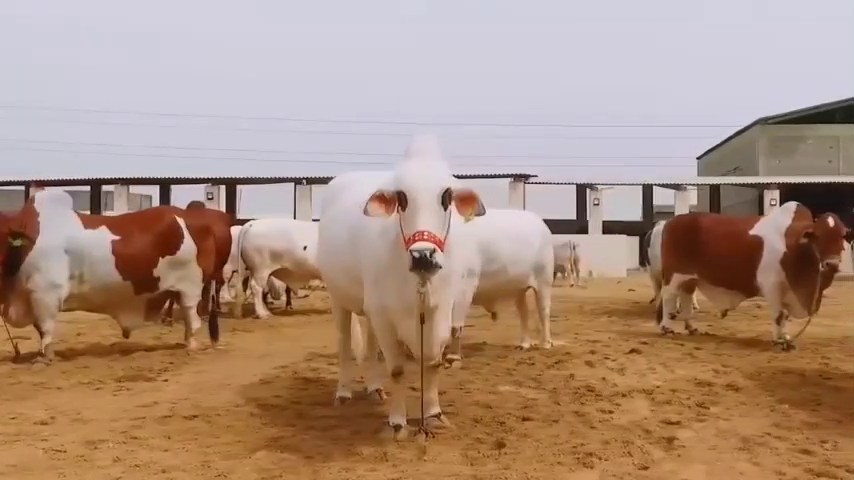bo: (311, 138, 468, 441), (2, 177, 218, 366), (638, 191, 848, 361), (460, 194, 564, 357), (234, 209, 314, 322)
